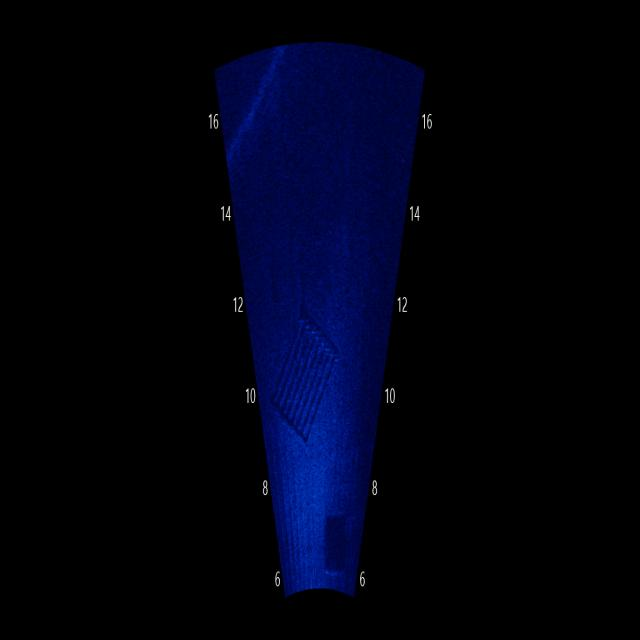square: (264, 295, 349, 454), (316, 502, 354, 588)
